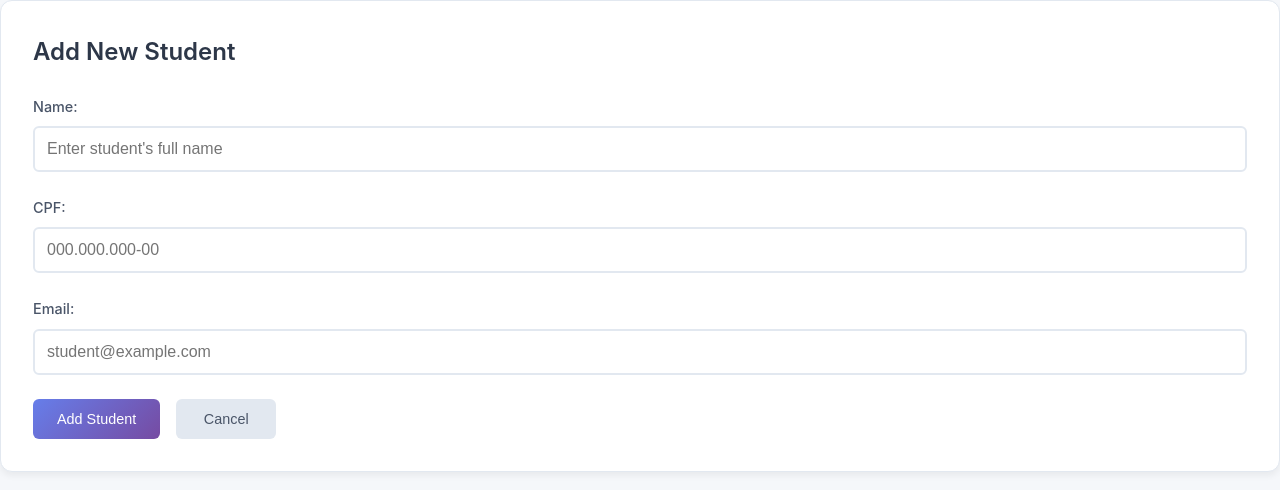
StudentForm › applies the CPF mask while typing and limits it to 11 digits
Type "12345678901999" into the field labelled "CPF:".
click(640, 250); type("12345678901999")  # box [33,228,1247,274]
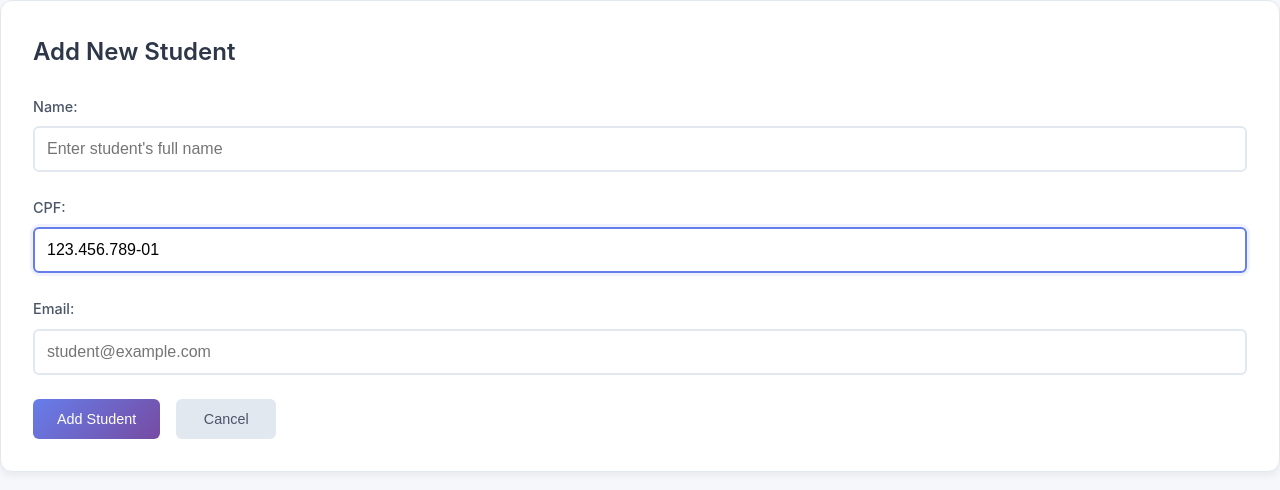
Result: the field labelled "CPF:" holds "123.456.789-01" at [33,228,1247,274]
